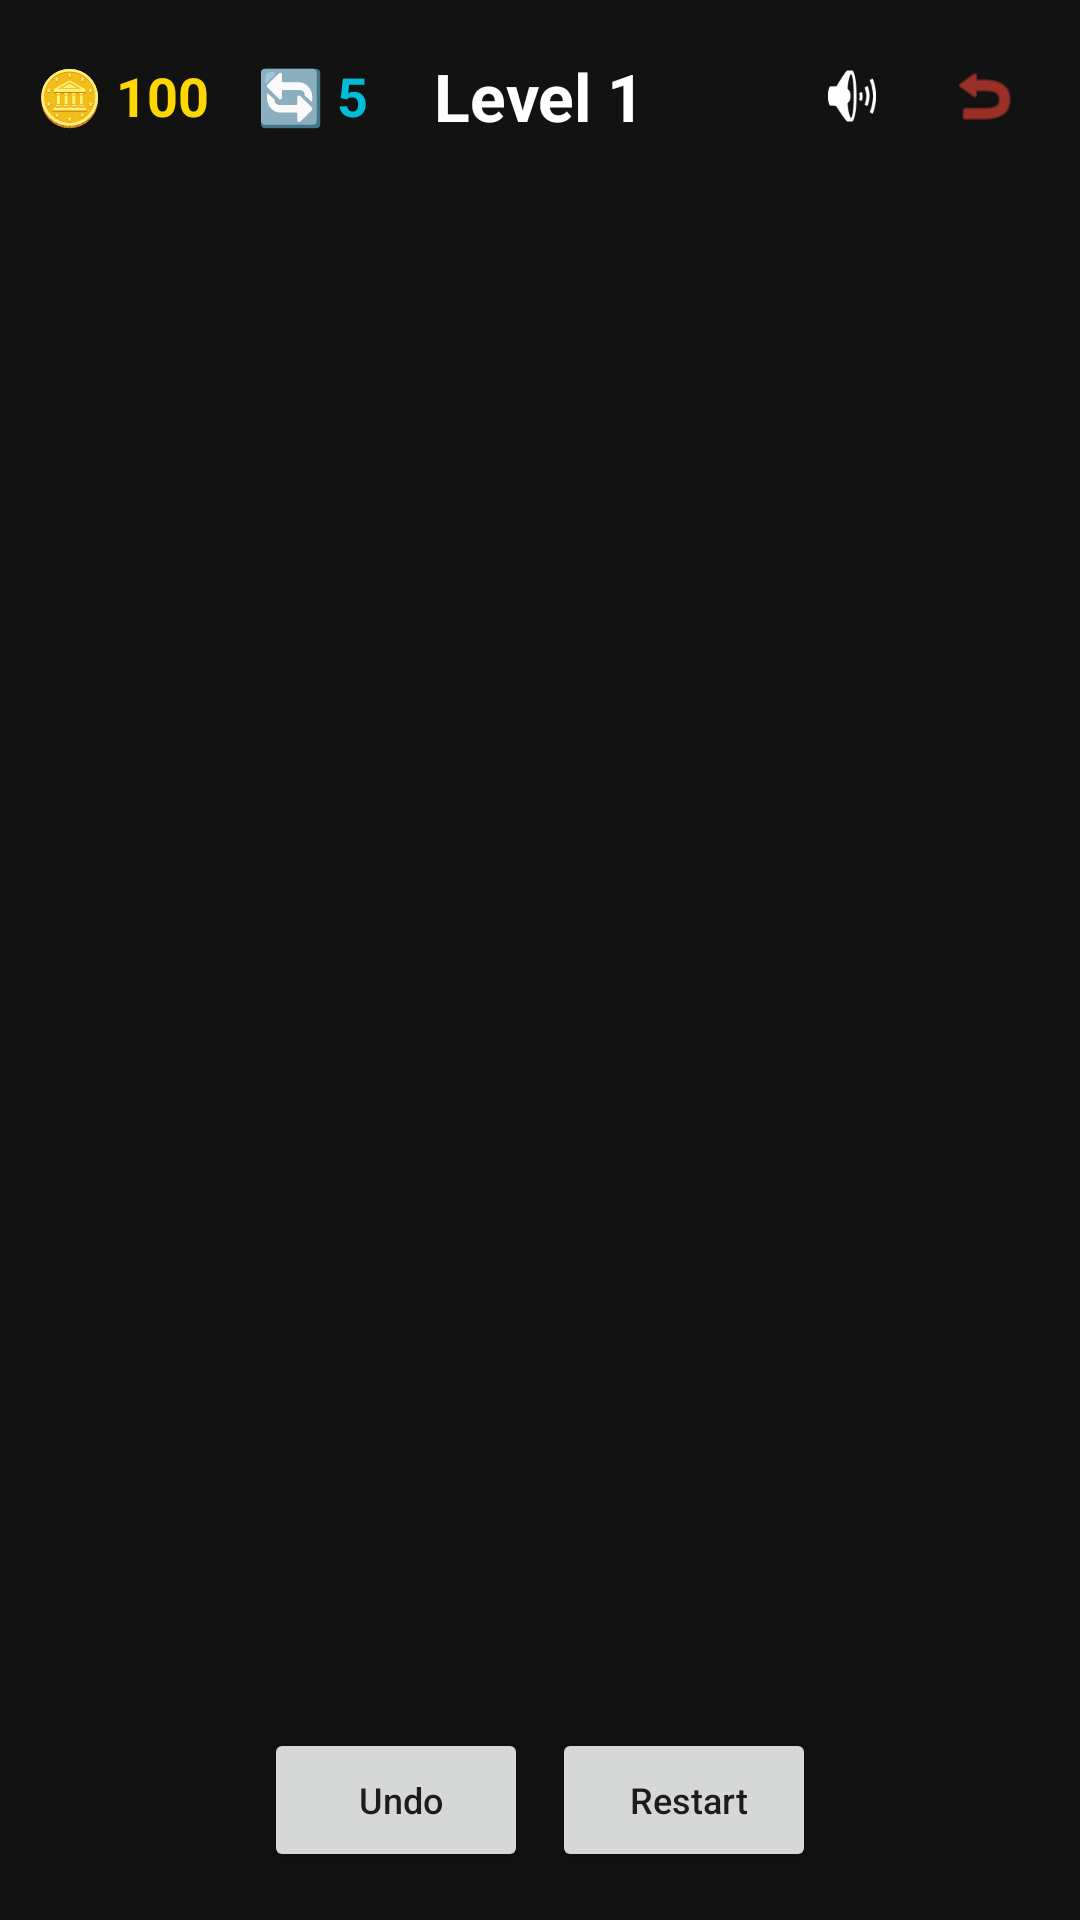

Named icons in this screenshot (1080 × 1920) and their centers, point (x, y):
revert: point (985, 96)
Toggle Sound: point (852, 96)
